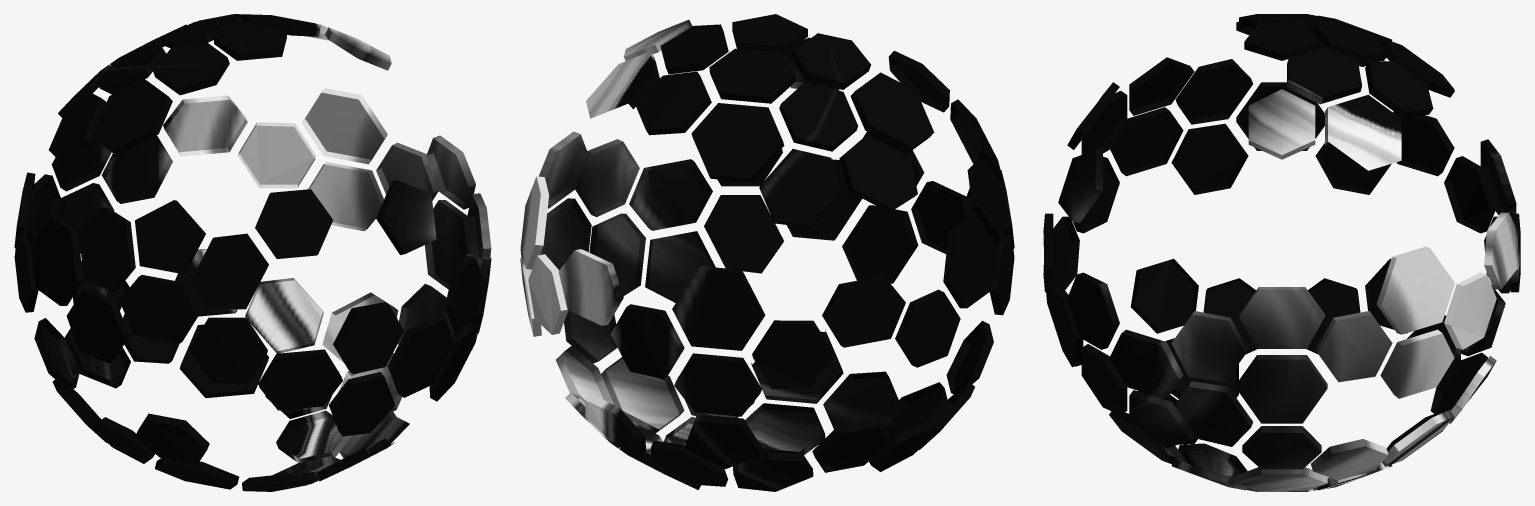
File: 0316_hudun.glb
3 renders of one model, left to right at view 1: azimuth 30°, elevation 25°; view 2: azimuth 150°, elevation 25°; view 3: azimuth 270°, elevation 25°, orthographic. The views are drawn at different scales.
Size of the model in its own units: 2.2 by 2.19 by 2.2.
Materials: 1 (1 with a texture image).
